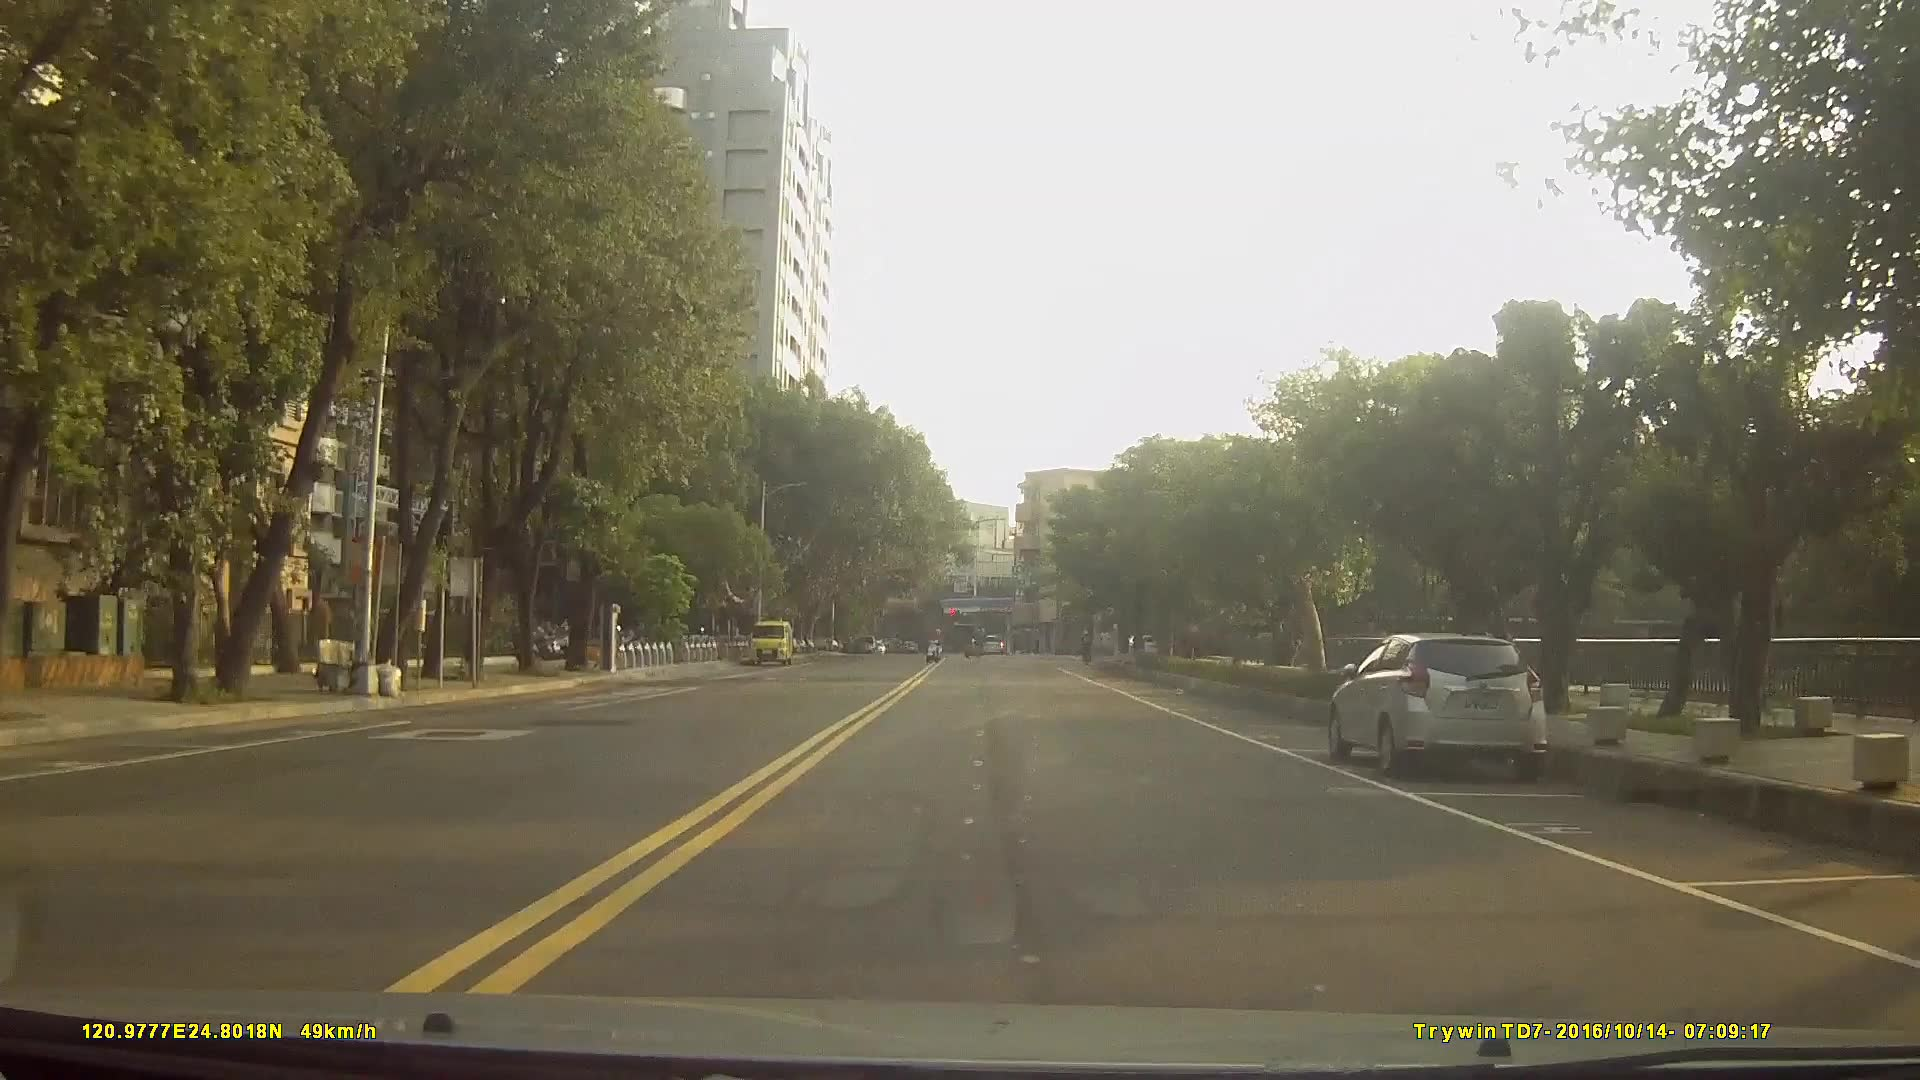rider: (925, 624, 947, 661), (965, 627, 987, 659)
vehicle: (1324, 627, 1551, 784), (979, 629, 1006, 654)
